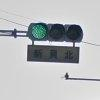traffic lights: (27, 22, 84, 44)
